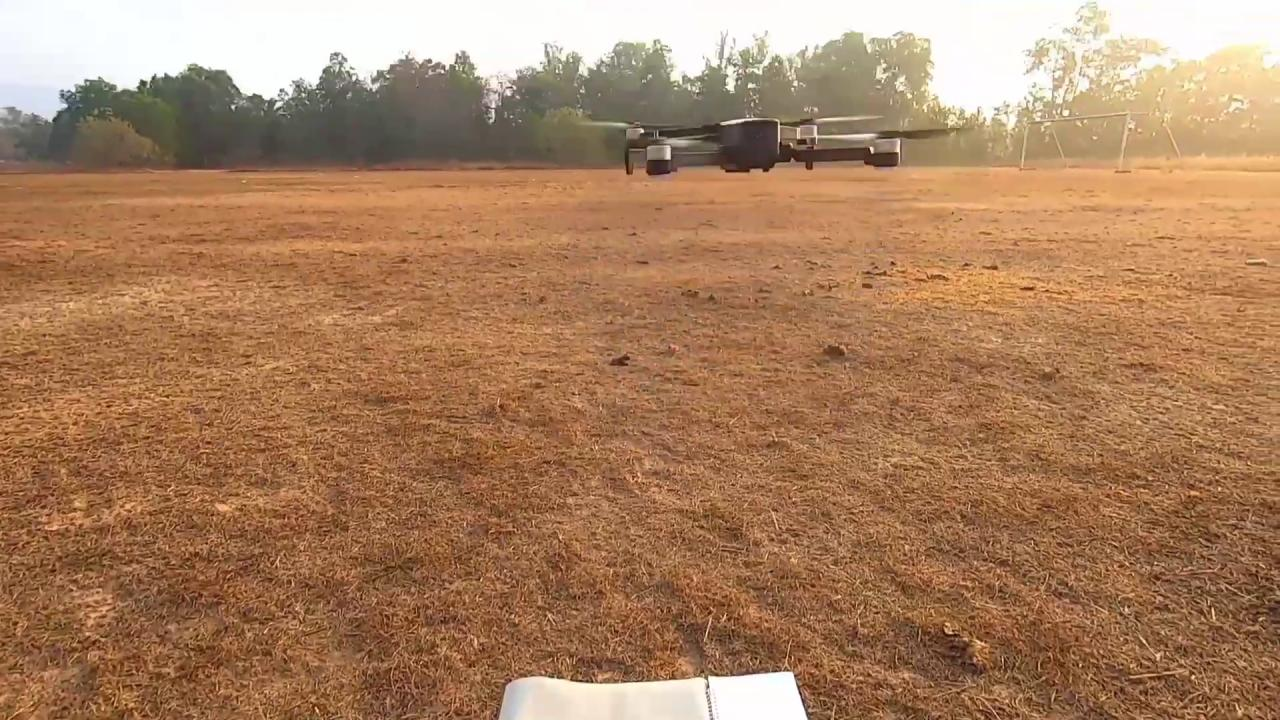Drone: (561, 99, 978, 185)
